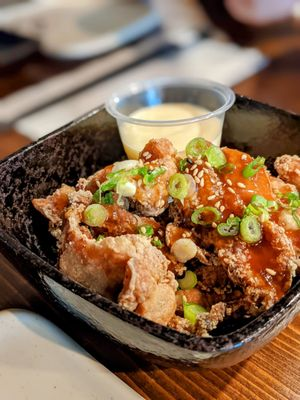pizza: (105, 76, 235, 161)
